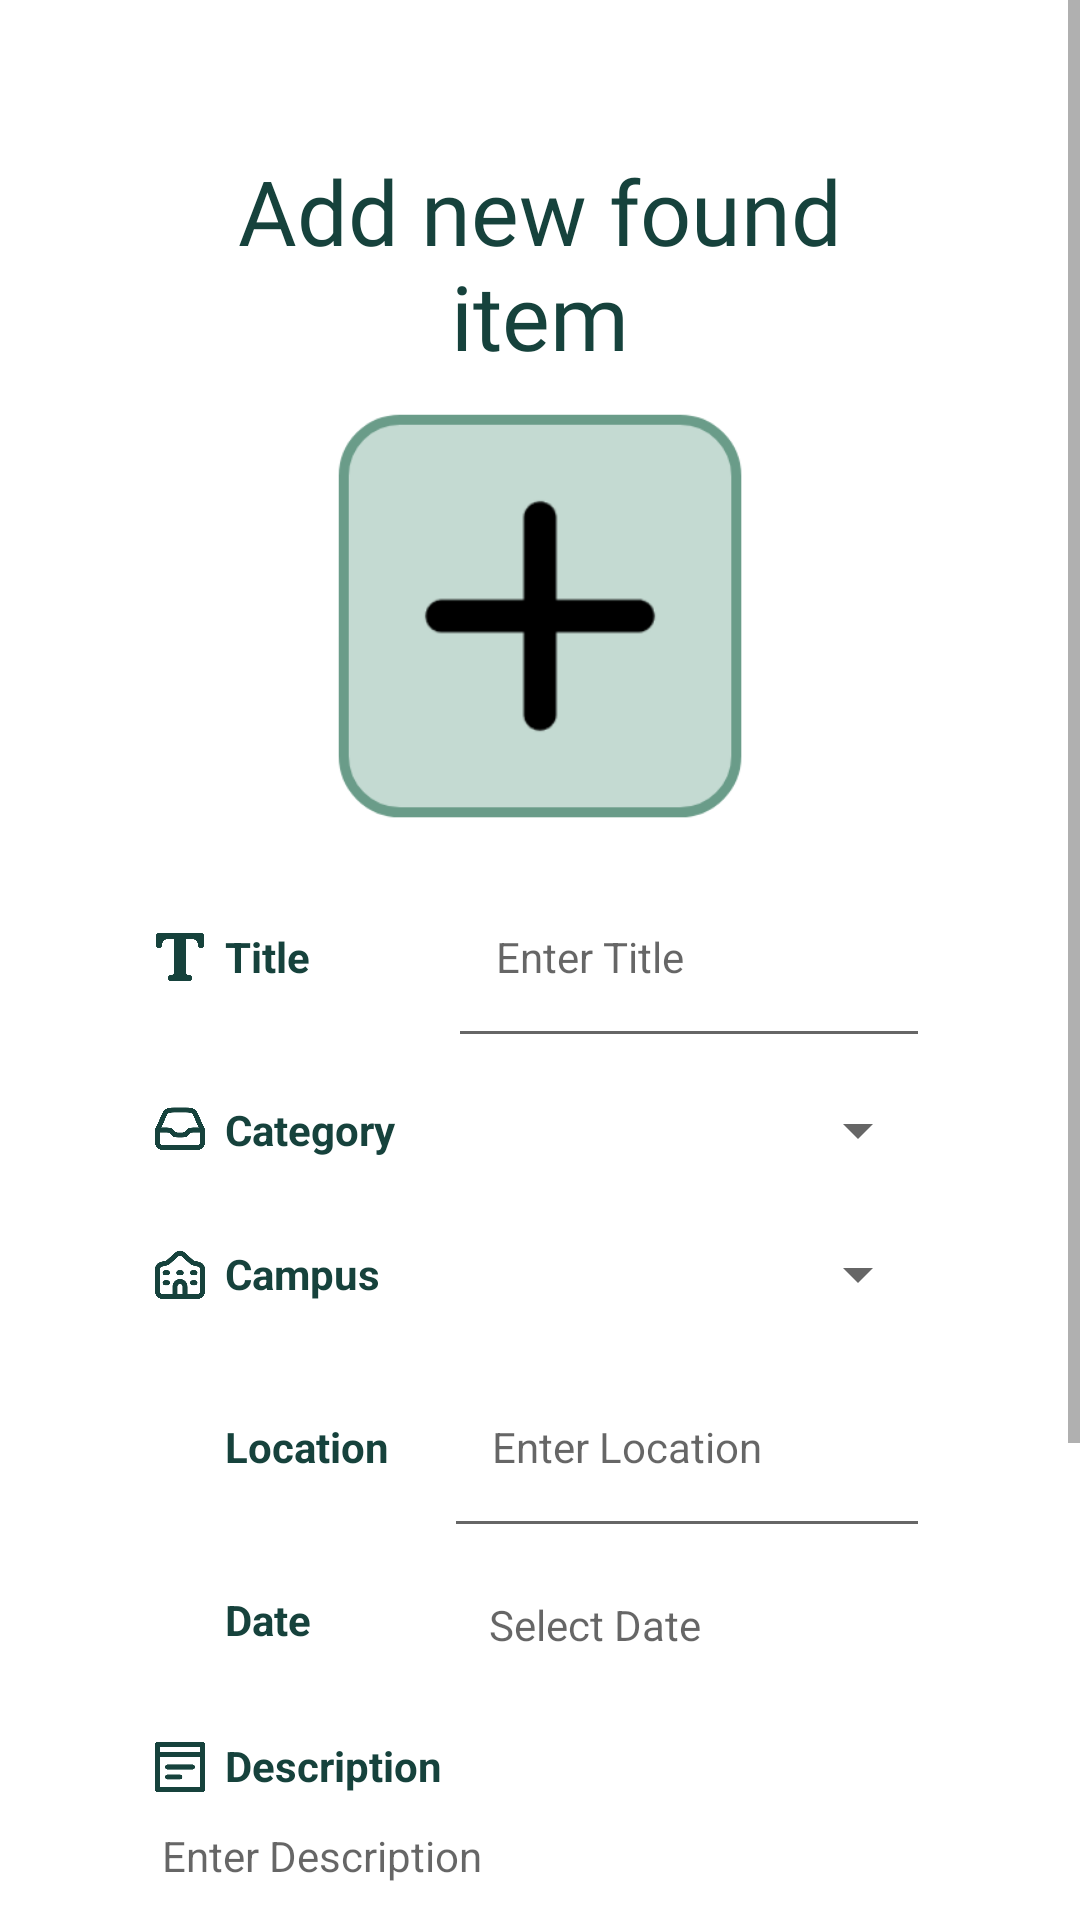

Named icons in this screenshot (1080px×1920px) and their centers, (x=x, y=y):
school: (x=180, y=1275)
